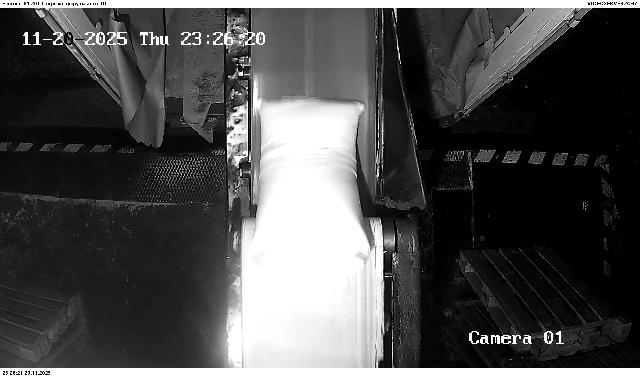bag: (250, 99, 371, 272)
